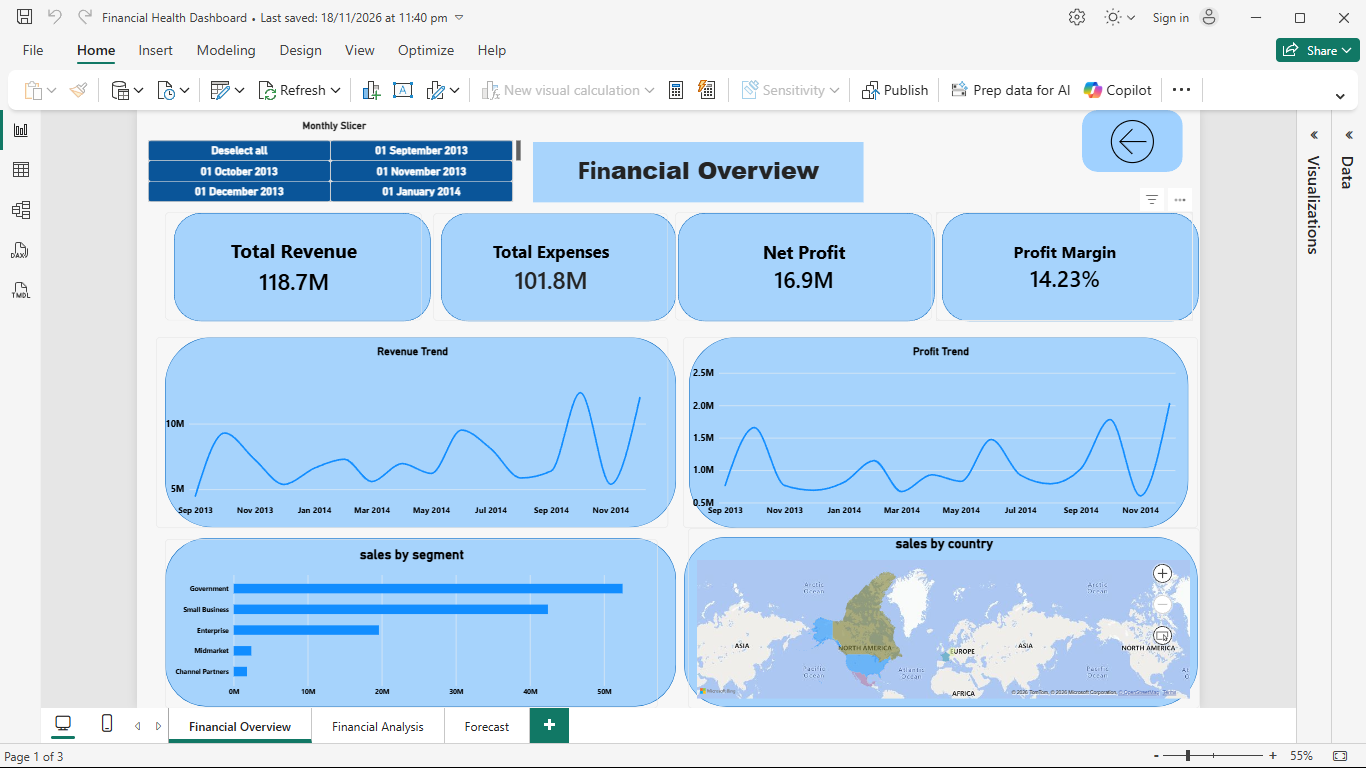

Layout of this report page (visuals, bound fields, positions):
{"tool":"powerbi","page":{"name":"Financial Overview","canvas":[1920,1080],"ordinal":0},"visuals":[{"type":"group","id":"g1","title":"Group 1","box":[50.4,186.5,1867.1,892],"z":0},{"type":"shape","box":[66.9,186.5,463.7,195.7],"z":0,"group":"g1"},{"type":"textbox","box":[714.3,57.8,596.6,109.4],"z":1000},{"type":"shape","box":[549.1,186.5,424.5,195.7],"z":1000,"group":"g1"},{"type":"shape","box":[977.8,186.5,463.7,195.7],"z":2000,"group":"g1"},{"type":"cardVisual","fields":{"Data":["Sum(financials (2).COGS)"]},"box":[534.2,186.6,424.8,195.2],"z":2000},{"type":"cardVisual","fields":{"Data":["Sum(financials (2). Sales)"]},"box":[51.3,184.6,464.5,196.1],"z":3000},{"type":"shape","box":[1453.8,186.5,463.7,195.7],"z":3000,"group":"g1"},{"type":"cardVisual","fields":{"Data":["Sum(financials (2).Profit)"]},"box":[971.5,184.6,464.5,196.1],"z":4000},{"type":"shape","box":[50.4,411,923.2,344],"z":4000,"group":"g1"},{"type":"cardVisual","fields":{"Data":["financials (2).Margin"]},"box":[1443.2,184.6,464.5,196.1],"z":5000},{"type":"shape","box":[996.8,409.6,902,345.2],"z":5000,"group":"g1"},{"type":"shape","box":[987.6,771.1,928.1,306.7],"z":5500,"group":"g1"},{"type":"lineChart","title":"Revenue Trend","fields":{"Category":["financials (2).Date"],"Y":["Sum(financials (2). Sales)"]},"box":[35.1,410.8,924.9,344.8],"z":6000},{"type":"shape","box":[50.4,773.6,923.2,304.9],"z":6000,"group":"g1"},{"type":"lineChart","title":"Profit Trend","fields":{"Category":["financials (2).Date"],"Y":["Sum(financials (2).Profit)"]},"box":[985.2,410.7,929.8,345.2],"z":7000},{"type":"barChart","title":"sales by segment","fields":{"Category":["financials (2).Segment"],"Y":["Sum(financials (2). Sales)"]},"box":[51.3,774.2,889.8,305.5],"z":8000},{"type":"filledMap","title":"sales by country","fields":{"Category":["financials (2).Country"],"Series":["financials (2). Sales"]},"box":[995.9,754.9,924.1,325.6],"z":9000},{"type":"advancedSlicerVisual","title":"Monthly Slicer","fields":{"Values":["financials (2).Date"]},"box":[19.3,17.2,673,150.7],"z":10000},{"type":"actionButton","box":[1707.2,0,182.1,111.9],"z":11000}]}

Visuals, with their boxes on the page's 1920x1080 design canvas (x1, y1, x2, y2). These are canvas units, not pixel positions in the 1366x768 screenshot, which may show the page scaled, cropped or inside an application window:
"Group 1" group: 50 186 1918 1078
shape: 67 186 531 382
textbox: 714 58 1311 167
shape: 549 186 974 382
shape: 978 186 1442 382
cardVisual - Sum(financials (2).COGS): 534 187 959 382
cardVisual - Sum(financials (2). Sales): 51 185 516 381
shape: 1454 186 1918 382
cardVisual - Sum(financials (2).Profit): 972 185 1436 381
shape: 50 411 974 755
cardVisual - financials (2).Margin: 1443 185 1908 381
shape: 997 410 1899 755
shape: 988 771 1916 1078
"Revenue Trend" lineChart: 35 411 960 756
shape: 50 774 974 1078
"Profit Trend" lineChart: 985 411 1915 756
"sales by segment" barChart: 51 774 941 1080
"sales by country" filledMap: 996 755 1920 1080
"Monthly Slicer" advancedSlicerVisual: 19 17 692 168
actionButton: 1707 0 1889 112
